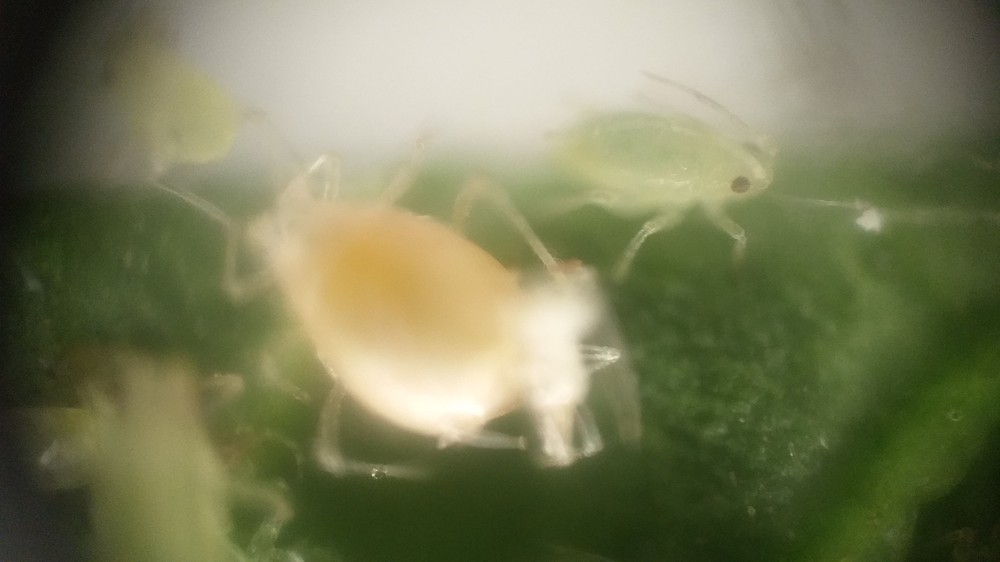Pulgon: (194, 142, 620, 446), (532, 76, 805, 262)
